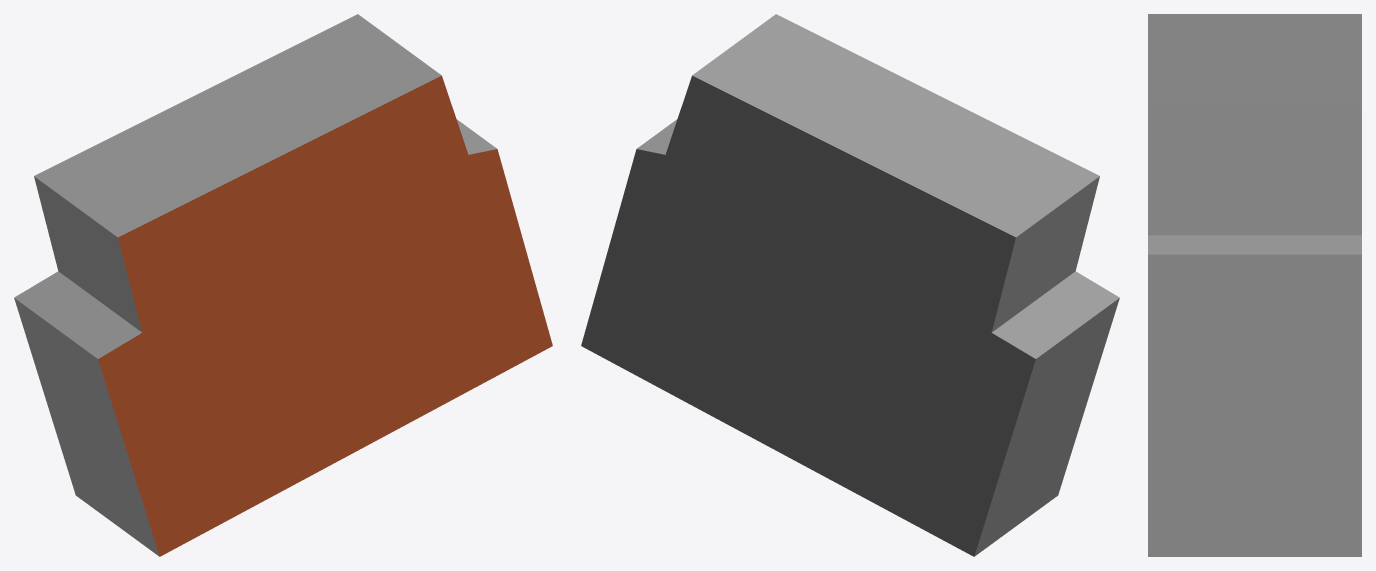
File: construction_5624_assumed_A_Casa_h6m.obj
3 views of the same model, side by side, from view 1: azimuth 30°, elevation 25°; view 2: azimuth 150°, elevation 25°; view 3: azimuth 270°, elevation 25° (orthographic). The views are drawn at different scales.
Parts seen in each view (by area): view 1: construction_5624_assumed_A_Casa; view 2: construction_5624_assumed_A_Casa; view 3: construction_5624_assumed_A_Casa.
Part boxes in pixels (x1=…): construction_5624_assumed_A_Casa: x1=14, y1=14, x2=552, y2=556; construction_5624_assumed_A_Casa: x1=581, y1=14, x2=1119, y2=556; construction_5624_assumed_A_Casa: x1=1148, y1=14, x2=1361, y2=556.
Size of the model in its own units: 18.75 by 16.26 by 6.
